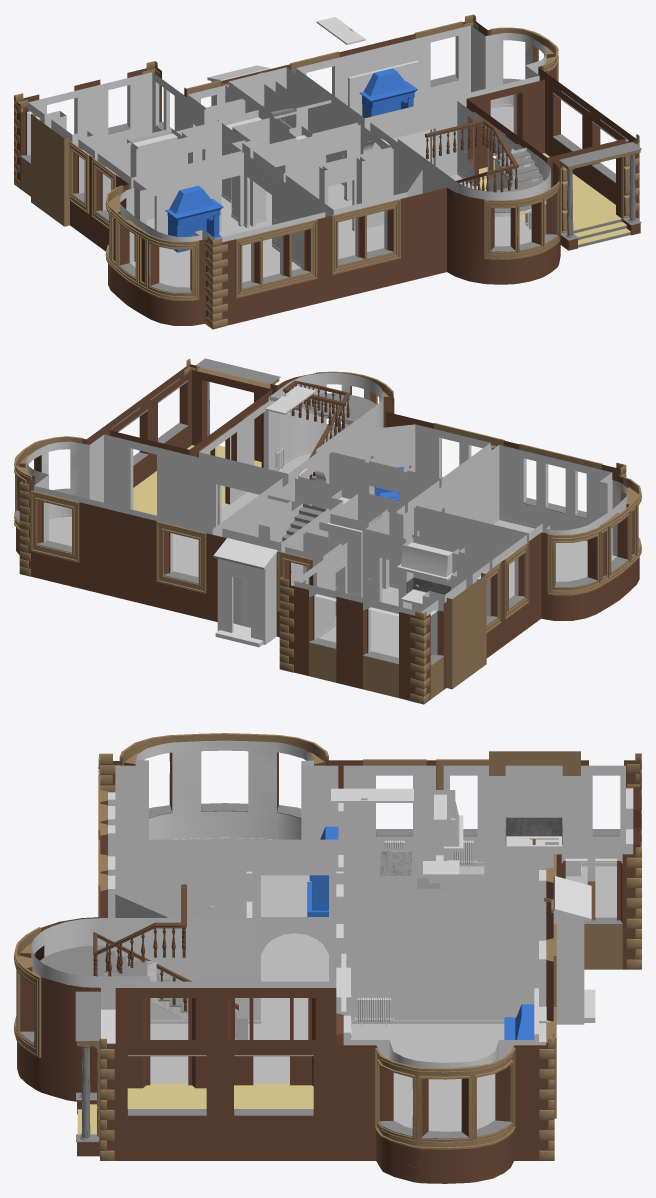
Rendered from Manor_Structure_F0.fbx.
3 renders of one model, top to bottom at view 1: azimuth 30°, elevation 25°; view 2: azimuth 150°, elevation 25°; view 3: azimuth 270°, elevation 25°, orthographic. The views are drawn at different scales.
Visible parts, largest first — view 1: Walls_F0, Bricks_Walls_F0, Frames_Ashlar_Plaster_Walls_F0, Thresholds_F0, Fireplaces_P0, Floor_F0_Rooms, Floor_F0, Floor_F0_Porch, Big_Stairs_Railing, Big_Stair_Speps, Columns, Big_Stair_Structure (+3 smaller); view 2: Walls_F0, Bricks_Walls_F0, Frames_Ashlar_Plaster_Walls_F0, Storage, Floor_F0, Thresholds_F0, Walls_F0_Kitchen_Bath, Floor_F0_Rooms, Big_Stairs_Railing, Floor_F0_Porch, Big_Stair_Speps, Storage.001 (+2 smaller); view 3: Walls_F0, Bricks_Walls_F0, Frames_Ashlar_Plaster_Walls_F0, Floor_F0, Walls_F0_Kitchen_Bath, Thresholds_F0, Storage, Floor_F0_Porch, Big_Stair_Speps, Floor_F0_Rooms, Big_Stairs_Railing, Fireplaces_P0 (+6 smaller).
Boxes of the visible parts, bbox=[...] form: Walls_F0: bbox=[27, 25, 550, 282]; Bricks_Walls_F0: bbox=[16, 21, 640, 325]; Frames_Ashlar_Plaster_Walls_F0: bbox=[14, 14, 640, 329]; Thresholds_F0: bbox=[20, 74, 641, 293]; Fireplaces_P0: bbox=[165, 68, 417, 252]; Floor_F0_Rooms: bbox=[130, 224, 384, 287]; Floor_F0: bbox=[147, 106, 531, 246]; Floor_F0_Porch: bbox=[477, 153, 630, 244]; Big_Stairs_Railing: bbox=[424, 119, 518, 192]; Big_Stair_Speps: bbox=[491, 151, 546, 212]; Columns: bbox=[566, 154, 636, 237]; Big_Stair_Structure: bbox=[492, 147, 546, 216]; Walls_F0: bbox=[25, 373, 627, 655]; Bricks_Walls_F0: bbox=[16, 364, 639, 700]; Frames_Ashlar_Plaster_Walls_F0: bbox=[14, 359, 641, 704]; Storage: bbox=[213, 538, 277, 647]; Floor_F0: bbox=[49, 453, 398, 657]; Thresholds_F0: bbox=[15, 358, 640, 665]; Walls_F0_Kitchen_Bath: bbox=[293, 554, 487, 655]; Floor_F0_Rooms: bbox=[493, 520, 616, 598]; Big_Stairs_Railing: bbox=[283, 380, 350, 479]; Floor_F0_Porch: bbox=[133, 445, 261, 515]; Big_Stair_Speps: bbox=[273, 393, 376, 479]; Storage.001: bbox=[265, 386, 315, 414]; Walls_F0: bbox=[31, 740, 633, 1068]; Bricks_Walls_F0: bbox=[17, 752, 640, 1183]; Frames_Ashlar_Plaster_Walls_F0: bbox=[14, 733, 641, 1160]; Floor_F0: bbox=[150, 866, 616, 1131]; Walls_F0_Kitchen_Bath: bbox=[436, 795, 625, 876]; Thresholds_F0: bbox=[16, 803, 625, 1142]; Storage: bbox=[553, 876, 595, 1024]; Floor_F0_Porch: bbox=[77, 1083, 313, 1134]; Big_Stair_Speps: bbox=[40, 945, 247, 1039]; Floor_F0_Rooms: bbox=[261, 875, 550, 1022]; Big_Stairs_Railing: bbox=[93, 884, 238, 1010]; Fireplaces_P0: bbox=[307, 826, 534, 1039].
Size of the model in its own units: 21.56 by 7.03 by 17.
